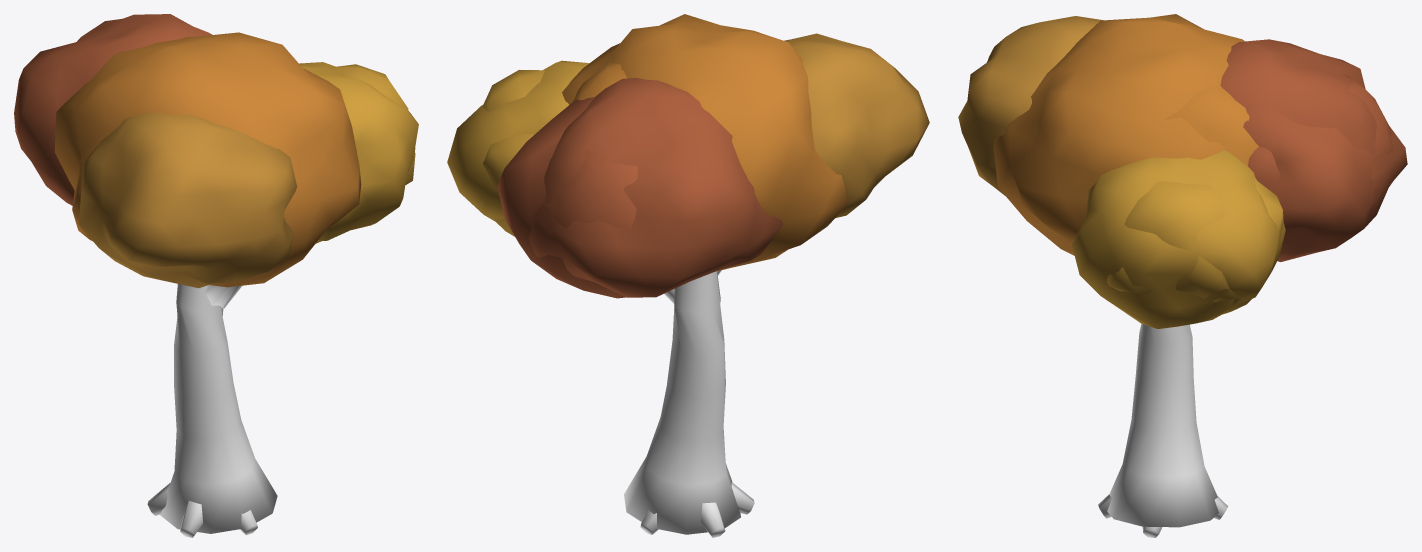
File: TreeAutumn.fbx
3 views of the same model, side by side, from view 1: azimuth 30°, elevation 25°; view 2: azimuth 150°, elevation 25°; view 3: azimuth 270°, elevation 25° (orthographic).
Visible parts, largest first — view 1: TreeAutumn_Foliage, TreeAutumn_Bark; view 2: TreeAutumn_Foliage, TreeAutumn_Bark; view 3: TreeAutumn_Foliage, TreeAutumn_Bark.
Boxes of the visible parts, box(x1,y1,x2,y2) form: TreeAutumn_Foliage: box(14, 14, 418, 288); TreeAutumn_Bark: box(147, 284, 277, 537); TreeAutumn_Foliage: box(447, 14, 929, 298); TreeAutumn_Bark: box(624, 270, 754, 537); TreeAutumn_Foliage: box(958, 14, 1407, 328); TreeAutumn_Bark: box(1098, 323, 1228, 537).
Size of the model in its own units: 81.56 by 101 by 87.29.
